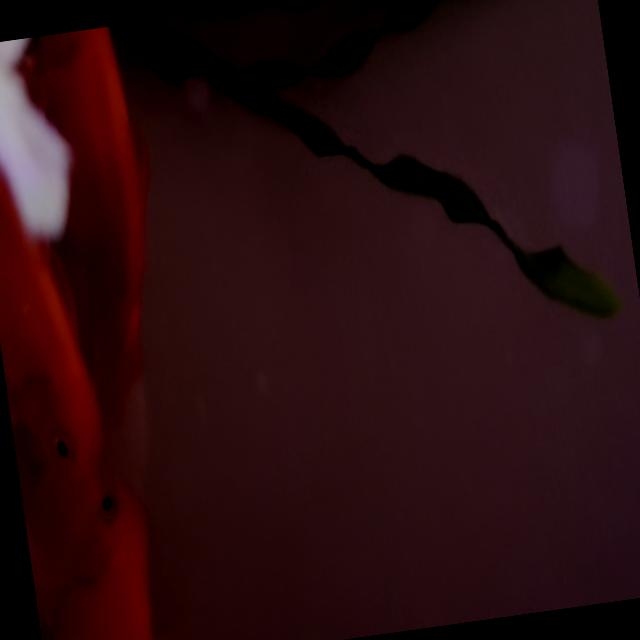fish: (13, 24, 185, 451), (0, 34, 119, 531), (21, 472, 182, 640)
